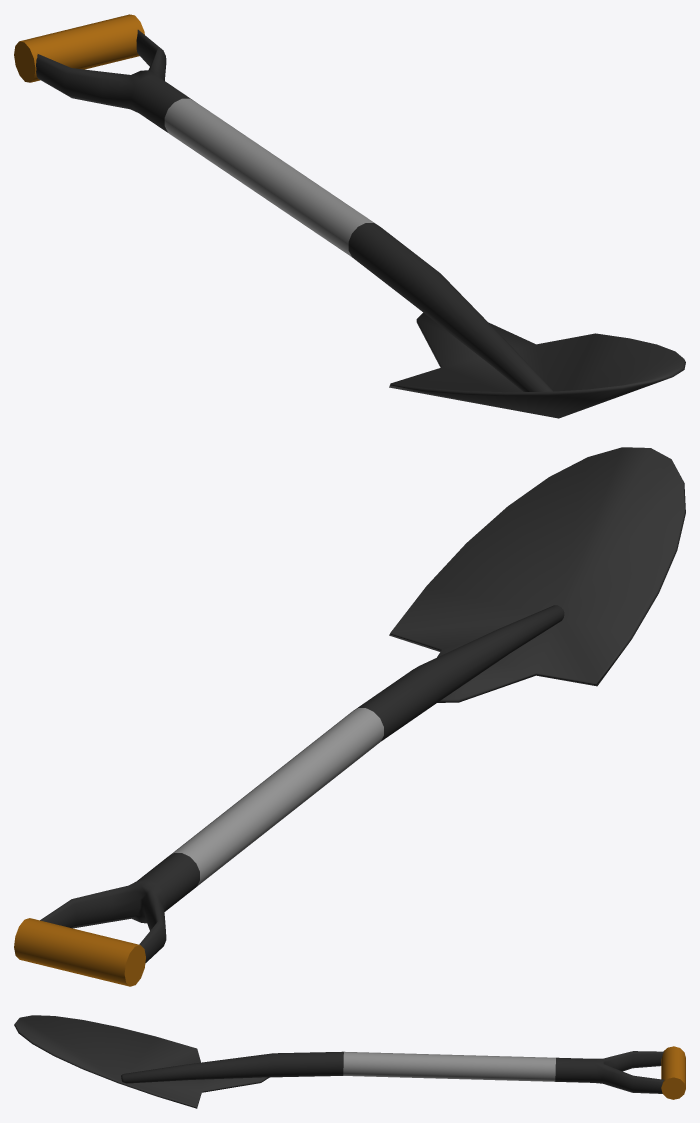
File: shovel.fbx
The picture shows the model from 3 angles, top to bottom: view 1: azimuth 30°, elevation 25°; view 2: azimuth 150°, elevation 25°; view 3: azimuth 270°, elevation 25°; orthographic projection. The views are drawn at different scales.
Parts seen in each view (by area): view 1: shovel; view 2: shovel; view 3: shovel.
Part boxes in pixels (x1,y1,x2,y2): shovel: (14,14,685,418); shovel: (14,447,685,986); shovel: (14,1015,685,1108).
Bounding box in the file's own units: 2045 × 993 × 9900.
Materials: 1 (1 with a texture image).
